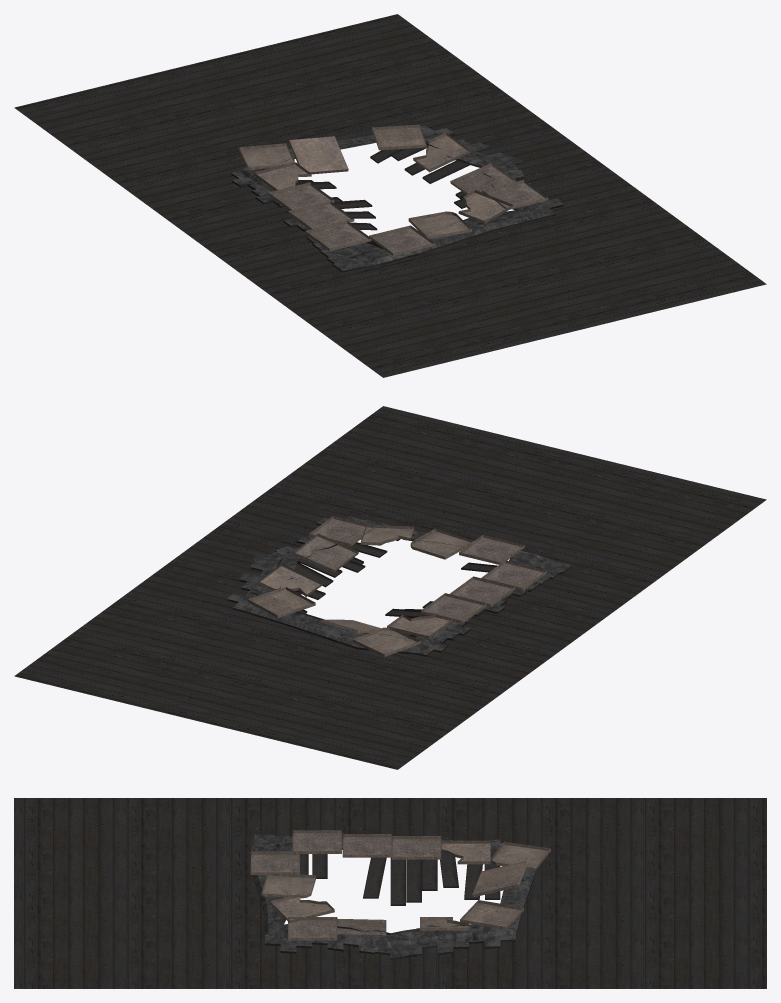
Rendered from #LVL_Ceiling_B.fbx.
The picture shows the model from 3 angles, top to bottom: view 1: azimuth 30°, elevation 25°; view 2: azimuth 150°, elevation 25°; view 3: azimuth 270°, elevation 25°; orthographic projection.
Visible parts, largest first — view 1: Cube_040; view 2: Cube_040; view 3: Cube_040.
Part boxes in pixels (<box>): Cube_040: <box>14,14,766,377</box>; Cube_040: <box>14,406,766,769</box>; Cube_040: <box>14,798,766,988</box>.
Size of the model in its own units: 12 by 1.08 by 20.
